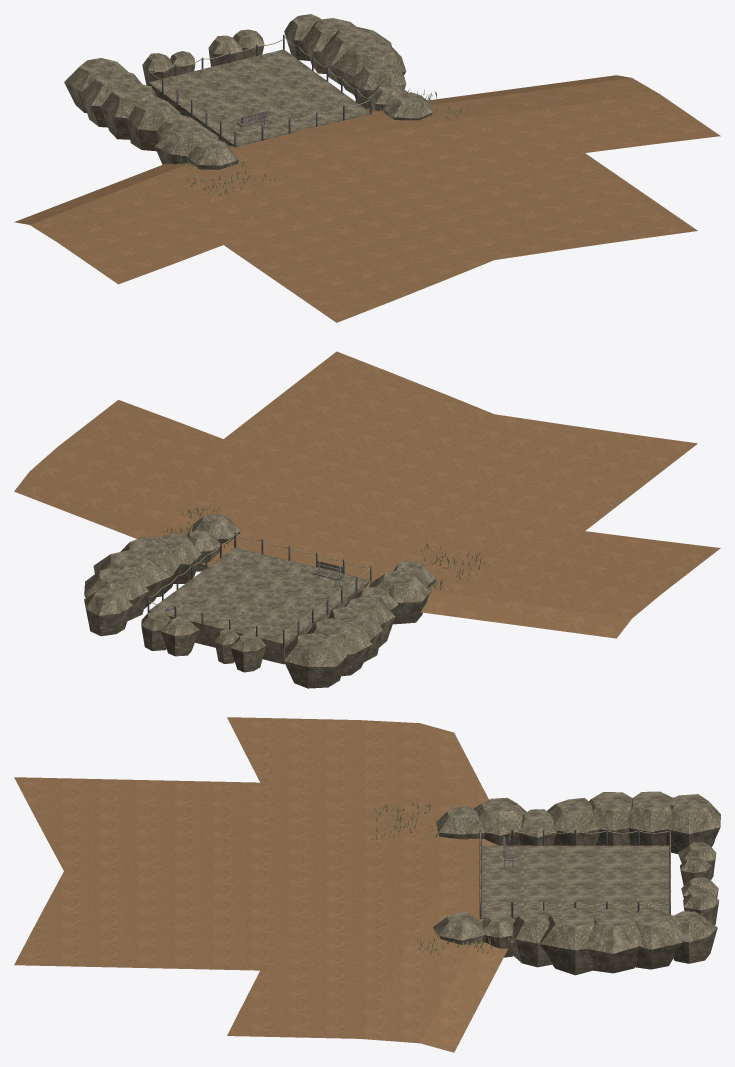
Rendered from simons_town_rocks.glb.
3 renders of one model, top to bottom at view 1: azimuth 30°, elevation 25°; view 2: azimuth 150°, elevation 25°; view 3: azimuth 270°, elevation 25°, orthographic. The views are drawn at different scales.
Parts seen in each view (by area): view 1: simons_town_rocks_BakedForeground, simons_town_rocks_grass; view 2: simons_town_rocks_BakedForeground, simons_town_rocks_grass; view 3: simons_town_rocks_BakedForeground, simons_town_rocks_grass.
Part boxes in pixels (x1=…): simons_town_rocks_BakedForeground: x1=14, y1=14, x2=720, y2=322; simons_town_rocks_grass: x1=170, y1=85, x2=487, y2=195; simons_town_rocks_BakedForeground: x1=14, y1=351, x2=720, y2=688; simons_town_rocks_grass: x1=163, y1=488, x2=484, y2=593; simons_town_rocks_BakedForeground: x1=14, y1=717, x2=720, y2=1052; simons_town_rocks_grass: x1=363, y1=801, x2=514, y2=954.
Size of what is drawn, in the model's own units: 40 by 2.71 by 37.33.
7 materials, 4 textured.
